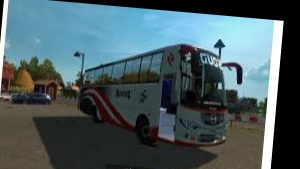bus: (74, 36, 245, 153)
